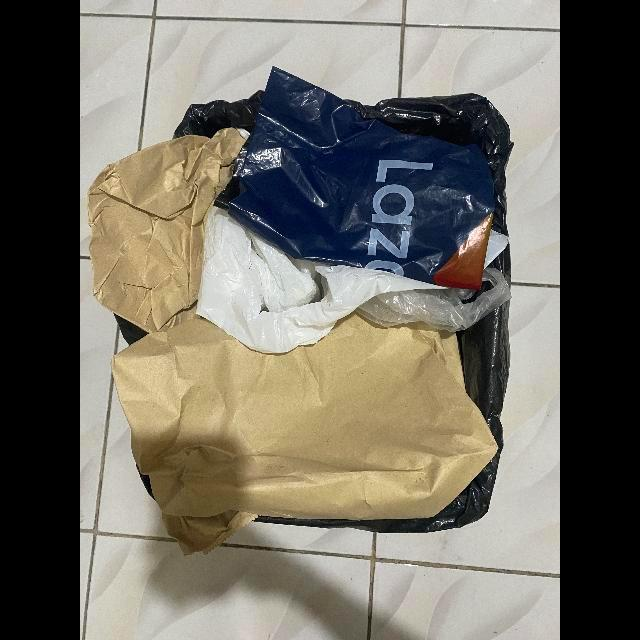paper: (110, 313, 500, 556), (88, 130, 248, 336)
plastic_bag: (212, 64, 496, 294), (356, 267, 511, 333)
